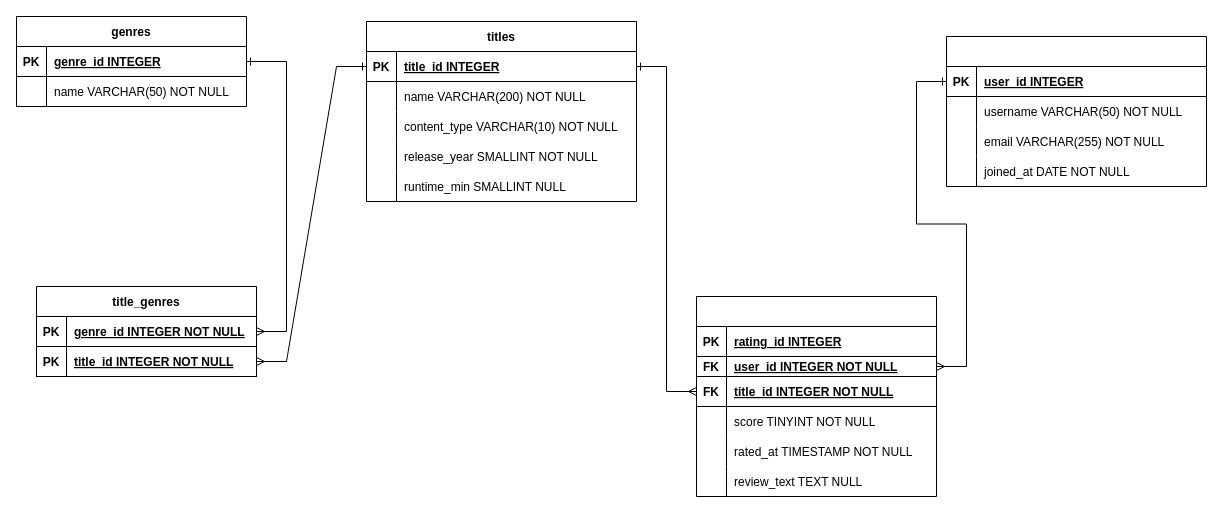
Image size: 1223x513. Some labels were removed from this diagram. Each missing label, with the box of its shape:
ratings: (696, 296, 936, 496)
users: (946, 36, 1206, 186)
